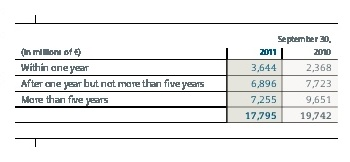table: (0, 0, 350, 162)
